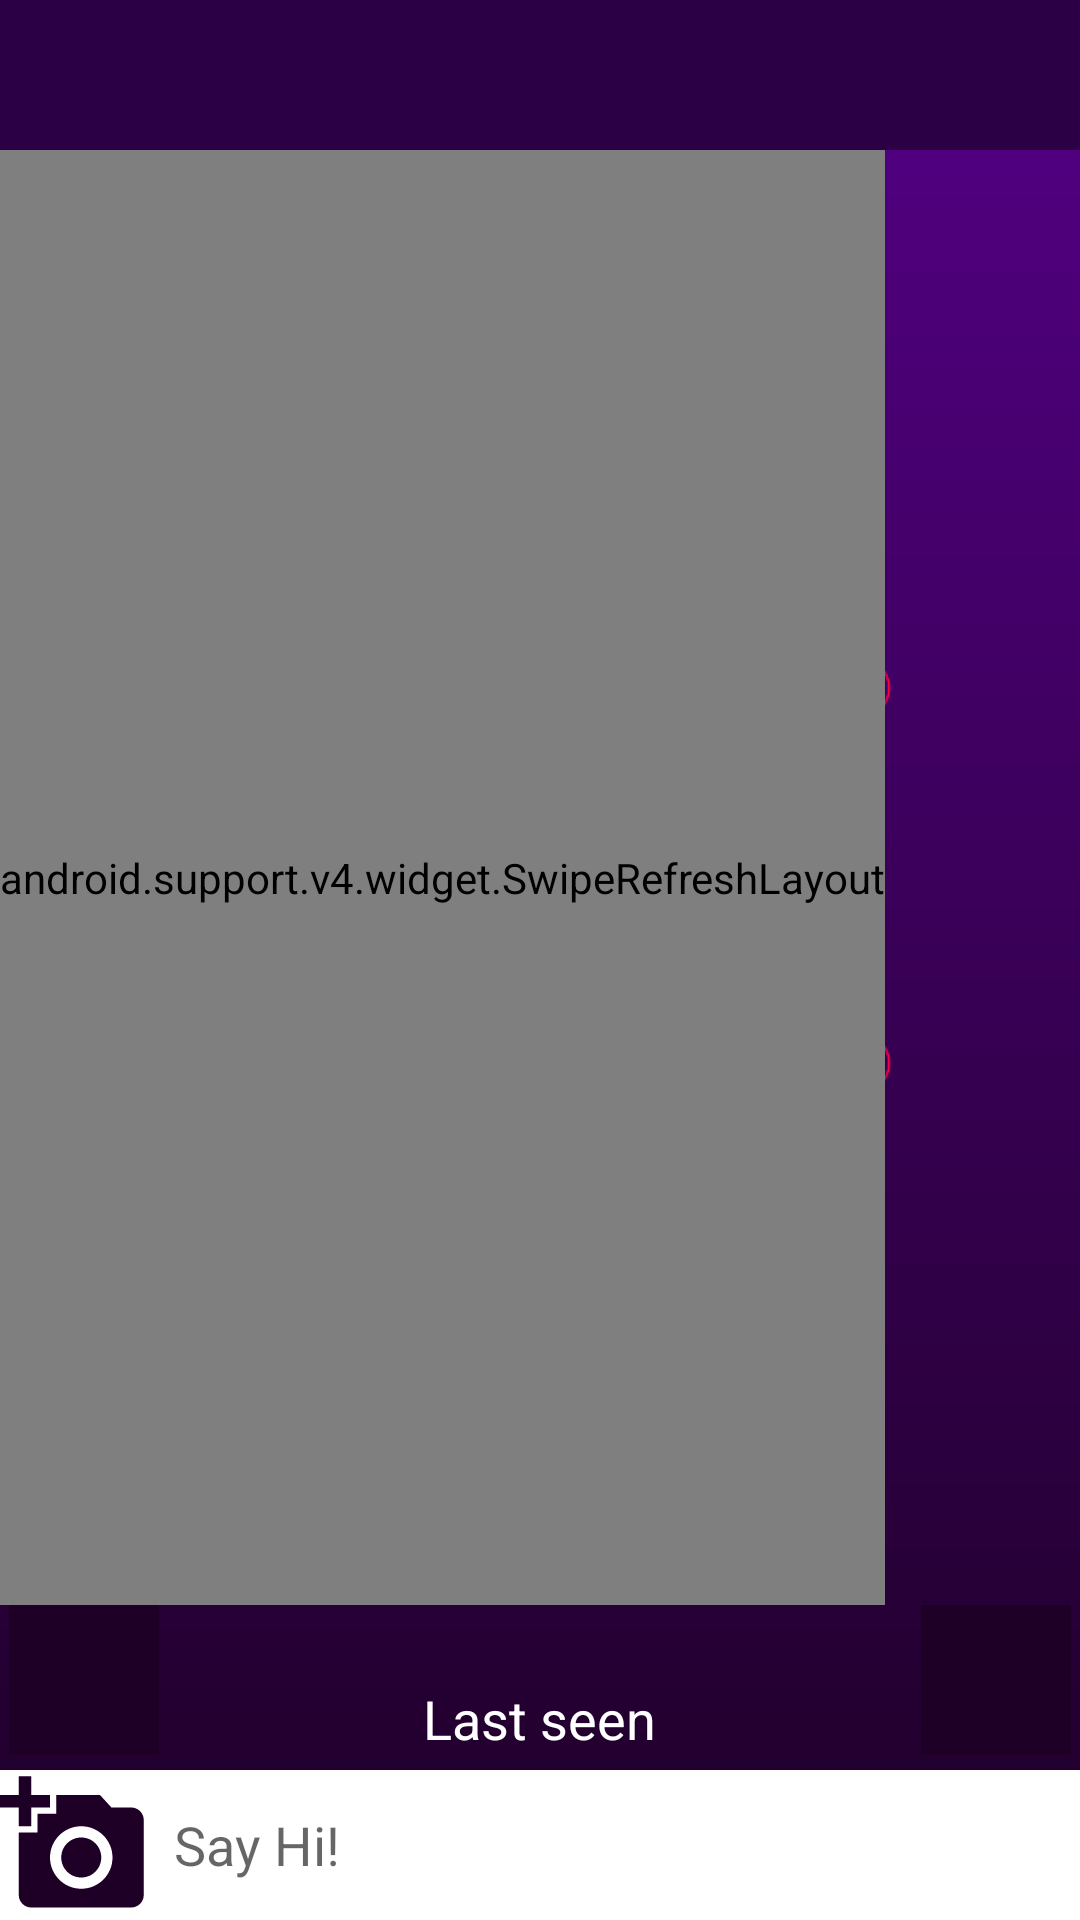

Point at icon controls on the screen. Image size 1080x1920, points as point (x, y).
add photo: point (72, 1842)
